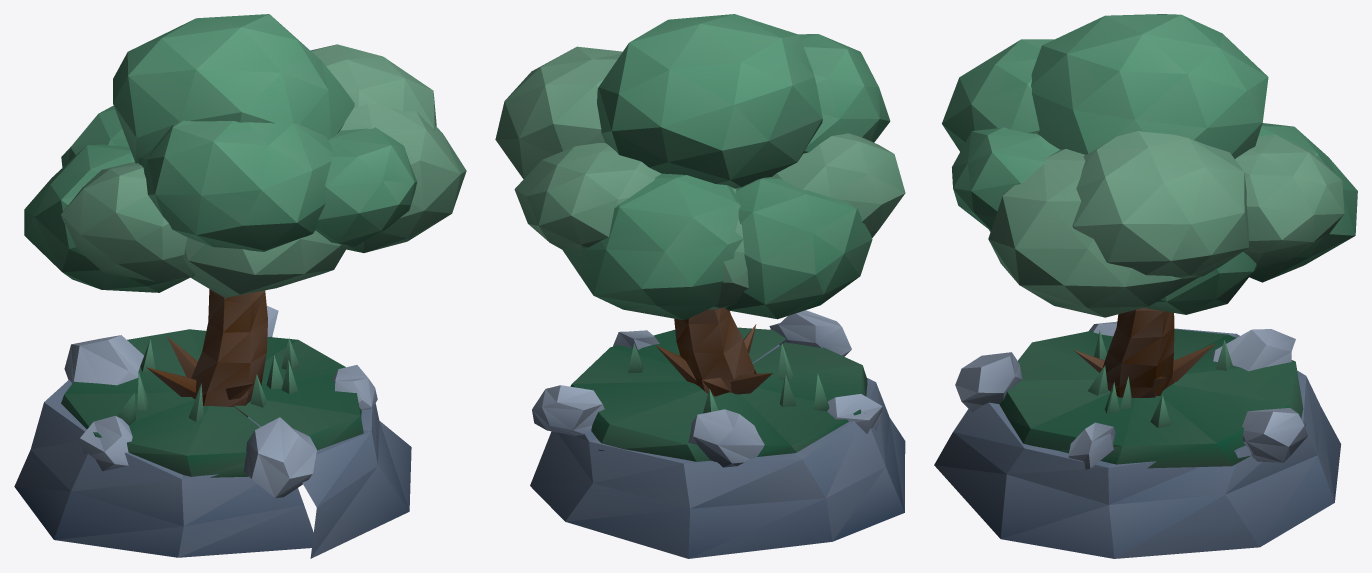
File: pohon_oak_emerald_988459.glb
The picture shows the model from 3 angles, left to right: view 1: azimuth 30°, elevation 25°; view 2: azimuth 150°, elevation 25°; view 3: azimuth 270°, elevation 25°; orthographic projection. The views are drawn at different scales.
Visible parts, largest first — view 1: Dedaunan_Kanopi, Pulau_Batu_Tepi_Sungai, Batang_Dan_Akar; view 2: Dedaunan_Kanopi, Pulau_Batu_Tepi_Sungai, Batang_Dan_Akar; view 3: Dedaunan_Kanopi, Pulau_Batu_Tepi_Sungai, Batang_Dan_Akar.
Part boxes in pixels (x1,y1,x2,y2): Dedaunan_Kanopi: [24, 14, 466, 297]; Pulau_Batu_Tepi_Sungai: [14, 306, 411, 558]; Batang_Dan_Akar: [146, 289, 267, 417]; Dedaunan_Kanopi: [495, 14, 905, 320]; Pulau_Batu_Tepi_Sungai: [530, 310, 905, 558]; Batang_Dan_Akar: [655, 307, 772, 396]; Dedaunan_Kanopi: [942, 14, 1357, 317]; Pulau_Batu_Tepi_Sungai: [934, 321, 1341, 558]; Batang_Dan_Akar: [1073, 308, 1215, 397].
Size of the model in its own units: 6.01 by 6.78 by 5.69.
